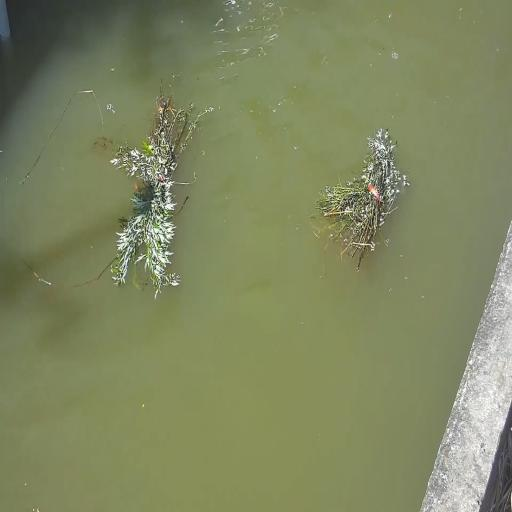twig: (21, 81, 210, 294), (314, 128, 407, 275)
